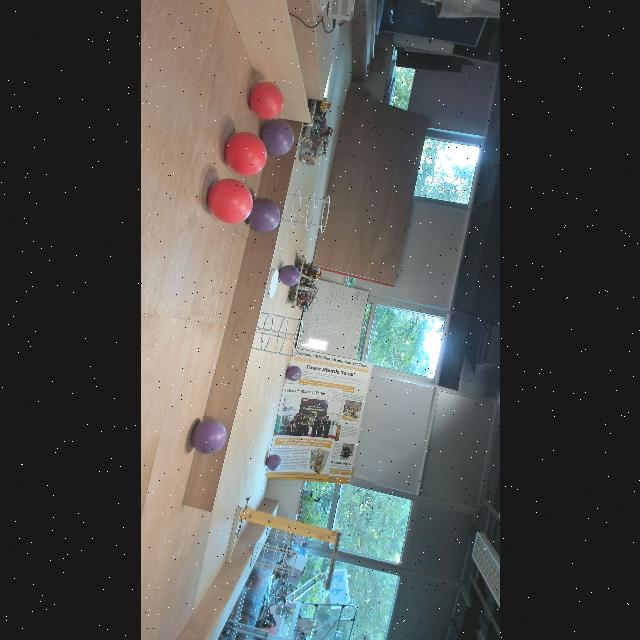P: (190, 419, 227, 455), (260, 118, 294, 156), (246, 198, 280, 232), (279, 262, 299, 288), (285, 366, 301, 382), (265, 455, 281, 471)
R: (207, 178, 253, 224), (224, 132, 266, 176), (248, 81, 284, 119)
S: (240, 308, 304, 358), (280, 188, 330, 235), (250, 540, 298, 578), (264, 518, 308, 548)
